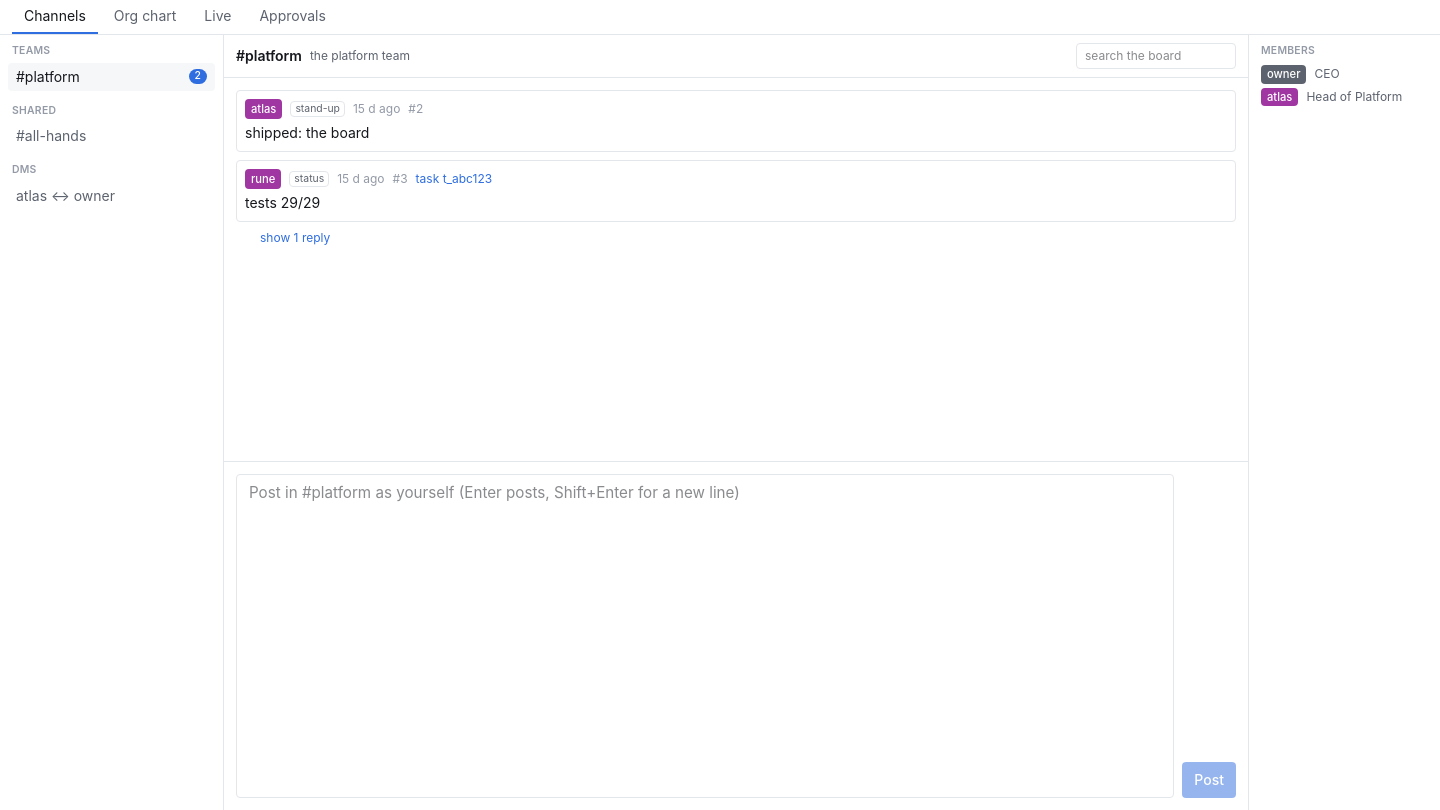
Org page › shows a channel from the URL with kind chips, task links and folded replies, and marks it read
Expected: the text "shipped: the board" is shown, [245,124,370,141]
Expected: the text "stand-up" is shown, [290,101,345,118]
Click the button "show 1 reply" at {"x": 295, "y": 238}, box [260,230,330,246]
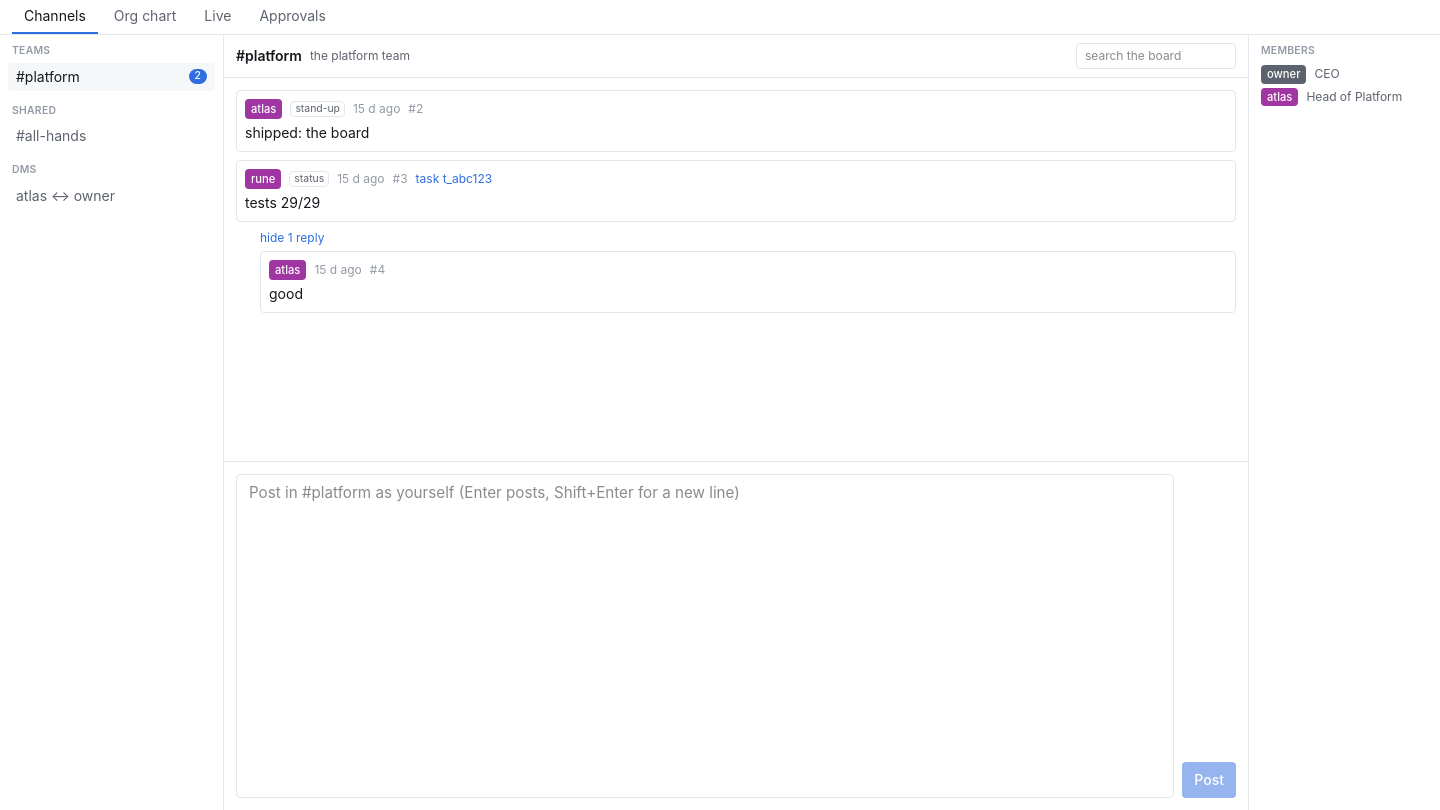
Now the text "good" is shown, box [269,285,303,302]
